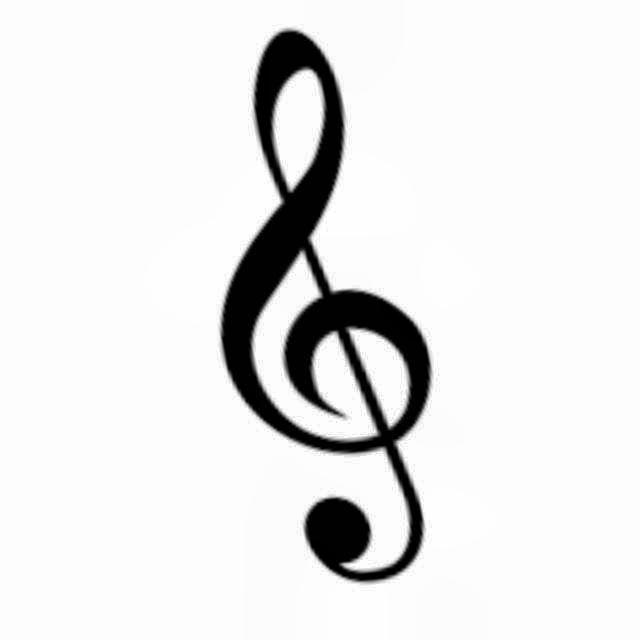Treble-clef: (203, 25, 453, 591)
